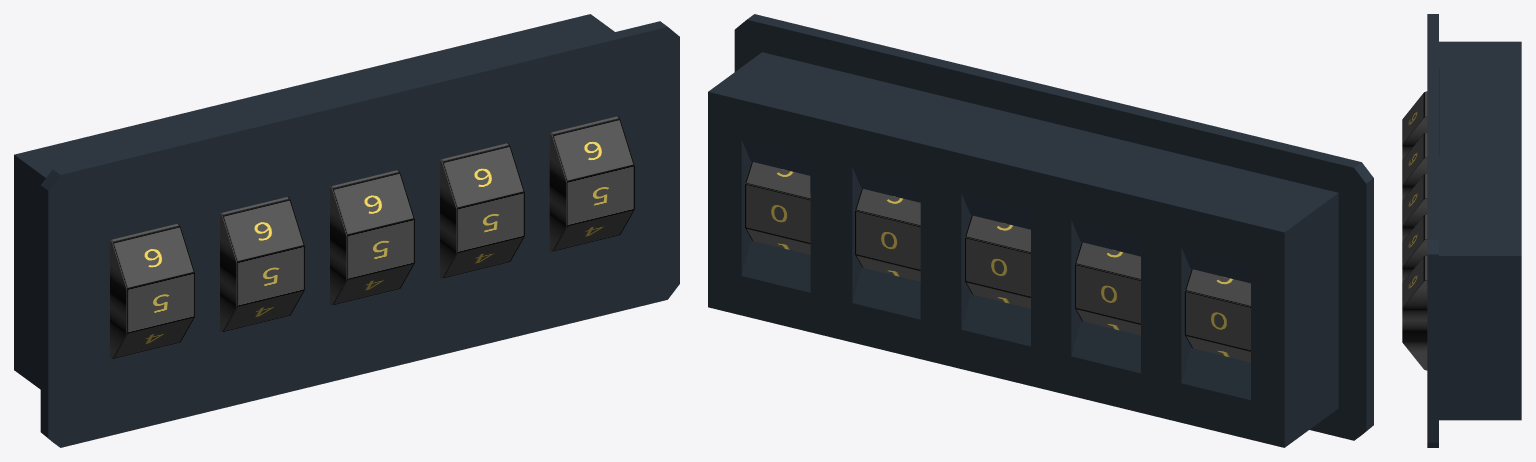
The model's file is Base Contador de Balas.obj.
3 views of the same model, side by side, from view 1: azimuth 30°, elevation 25°; view 2: azimuth 150°, elevation 25°; view 3: azimuth 270°, elevation 25° (orthographic). The views are drawn at different scales.
Parts seen in each view (by area): view 1: Base_Counter, Base_Counter (2), Cylinder, Cylinder (4), Cylinder (3), Cylinder (2), Cylinder (1); view 2: Base_Counter (2), Base_Counter, Cylinder (4), Cylinder (2), Cylinder (3), Cylinder, Cylinder (1); view 3: Base_Counter (2), Base_Counter, Cylinder, Cylinder (1), Cylinder (2), Cylinder (4), Cylinder (3).
Part boxes in pixels (box(x1,y1,x2,y2)): Base_Counter: box(40, 21, 679, 447); Base_Counter (2): box(14, 14, 614, 389); Cylinder: box(549, 116, 634, 251); Cylinder (4): box(110, 223, 194, 358); Cylinder (3): box(220, 196, 304, 331); Cylinder (2): box(330, 170, 414, 305); Cylinder (1): box(440, 143, 524, 278); Base_Counter (2): box(708, 52, 1338, 447); Base_Counter: box(734, 14, 1373, 440); Cylinder (4): box(1184, 269, 1250, 362); Cylinder (2): box(965, 215, 1030, 308); Cylinder (3): box(1075, 242, 1140, 335); Cylinder: box(745, 161, 810, 254); Cylinder (1): box(855, 188, 920, 281); Base_Counter (2): box(1439, 41, 1521, 420); Base_Counter: box(1427, 14, 1439, 447); Cylinder: box(1402, 255, 1427, 370); Cylinder (1): box(1402, 214, 1427, 282); Cylinder (2): box(1402, 173, 1427, 241); Cylinder (4): box(1402, 91, 1427, 159); Cylinder (3): box(1402, 132, 1427, 200).
Bounding box in the file's own units: 0.46 × 0.19 × 0.0988.
Materials: 2 (1 with a texture image).
